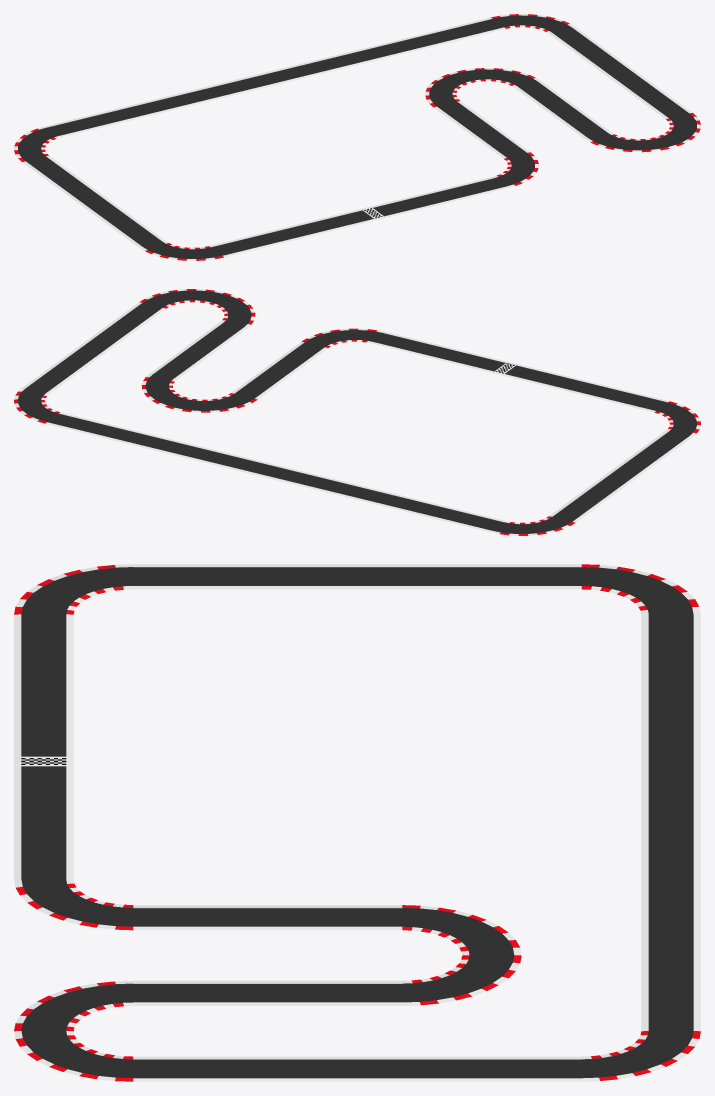
File: track_v2.fbx
3 renders of one model, top to bottom at view 1: azimuth 30°, elevation 25°; view 2: azimuth 150°, elevation 25°; view 3: azimuth 270°, elevation 25°, orthographic. The views are drawn at different scales.
Visible parts, largest first — view 1: straight road.003; view 2: straight road.003; view 3: straight road.003.
Part boxes in pixels (x1,y1,x2,y2): straight road.003: (14,14,700,260); straight road.003: (14,289,700,535); straight road.003: (14,564,700,1081).
Size of the model in its own units: 383 by 0.1365 by 215.
